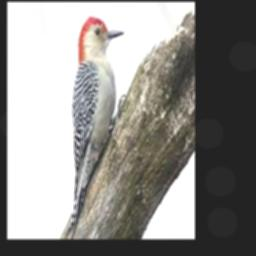Woodpecker: (62, 17, 124, 238)
